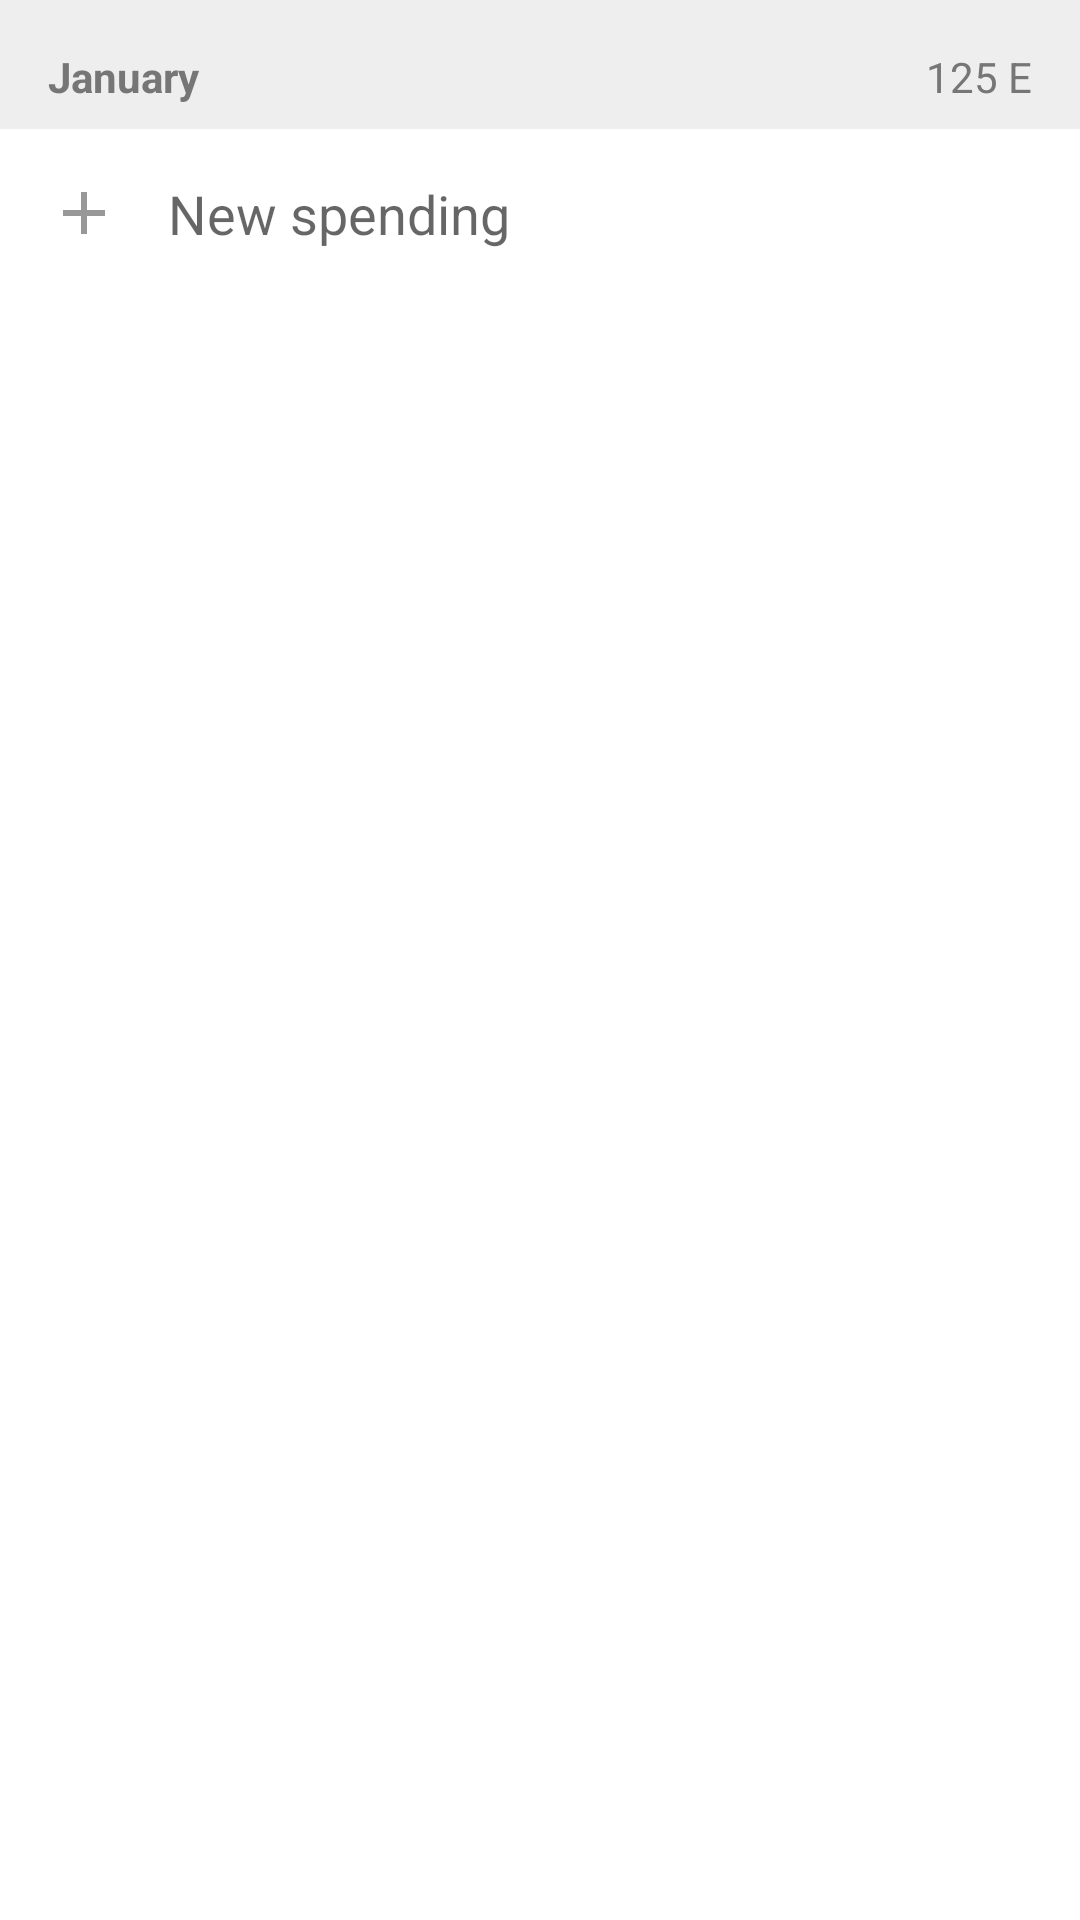

Where icons sit on this 1080px x 1920px app screen, as (x1,y1,x2,y2):
add: (63,192,105,234)
